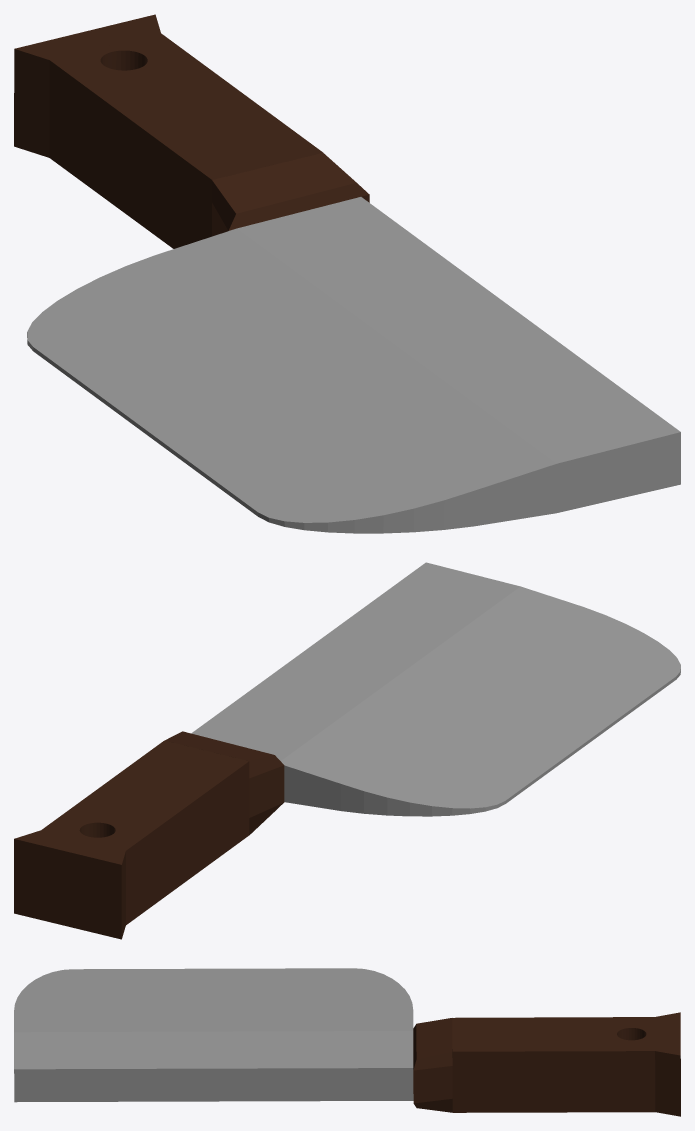
3 renders of one model, top to bottom at view 1: azimuth 30°, elevation 25°; view 2: azimuth 150°, elevation 25°; view 3: azimuth 270°, elevation 25°, orthographic. The views are drawn at different scales.
Visible parts, largest first — view 1: Plane.004; view 2: Plane.004; view 3: Plane.004.
Part boxes in pixels (x1,y1,x2,y2): Plane.004: [14, 14, 680, 533]; Plane.004: [14, 562, 680, 939]; Plane.004: [14, 968, 680, 1116].
Bounding box in the file's own units: 34.2 × 8.43 × 82.26.
